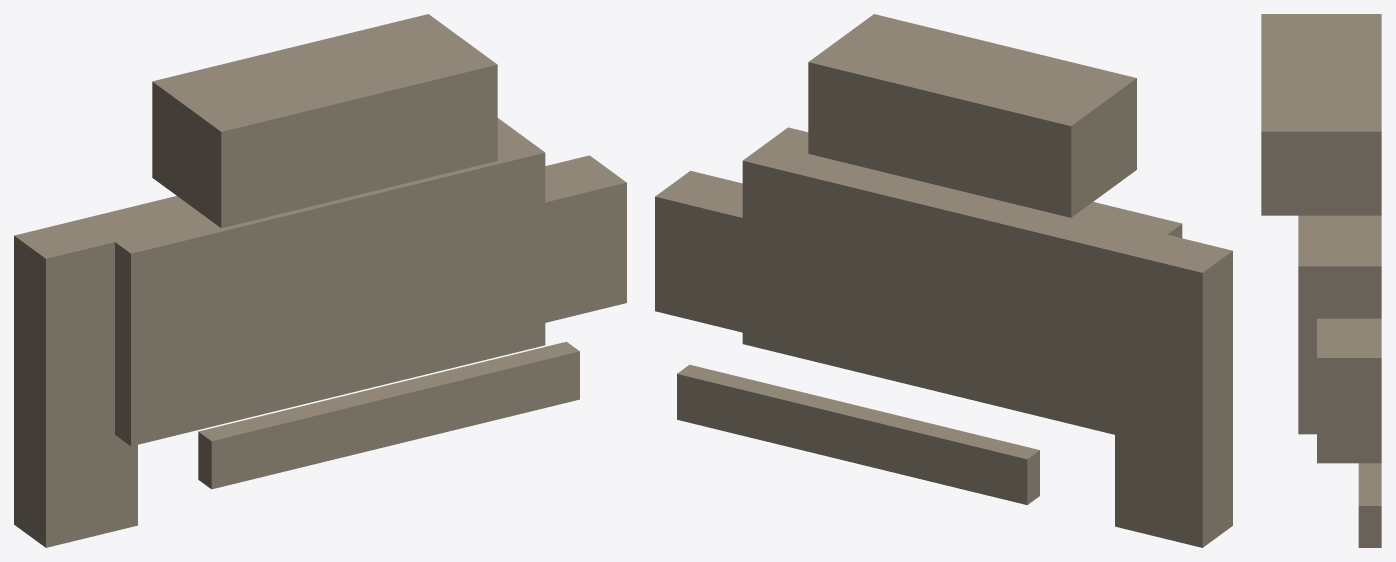
Rendered from SM_RexaWarehouseQuarter_Alpha.gltf.
3 renders of one model, left to right at view 1: azimuth 30°, elevation 25°; view 2: azimuth 150°, elevation 25°; view 3: azimuth 270°, elevation 25°, orthographic. The views are drawn at different scales.
Visible parts, largest first — view 1: SM_RexaWarehouseQuarter_Alpha; view 2: SM_RexaWarehouseQuarter_Alpha; view 3: SM_RexaWarehouseQuarter_Alpha.
Boxes of the visible parts, bbox=[...] form: SM_RexaWarehouseQuarter_Alpha: bbox=[14, 14, 626, 547]; SM_RexaWarehouseQuarter_Alpha: bbox=[655, 14, 1232, 547]; SM_RexaWarehouseQuarter_Alpha: bbox=[1261, 14, 1381, 547].
Size of the model in its own units: 25 by 17 by 5.2.
